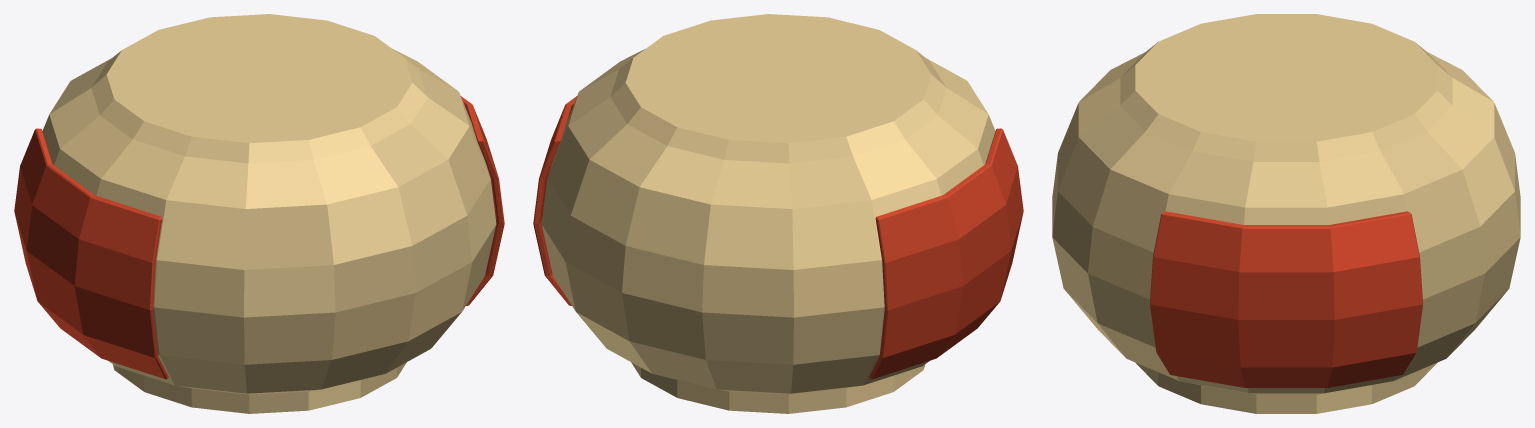
File: QR_WideCabin.fbx
3 views of the same model, side by side, from view 1: azimuth 30°, elevation 25°; view 2: azimuth 150°, elevation 25°; view 3: azimuth 270°, elevation 25° (orthographic).
Parts seen in each view (by area): view 1: QR_WideCabin; view 2: QR_WideCabin; view 3: QR_WideCabin.
Part boxes in pixels (<box>): QR_WideCabin: <box>14,14,504,413</box>; QR_WideCabin: <box>533,14,1023,413</box>; QR_WideCabin: <box>1052,14,1520,413</box>.
Bounding box in the file's own units: 1.26 × 0.78 × 1.22.
Materials: 2 (2 with a texture image).
